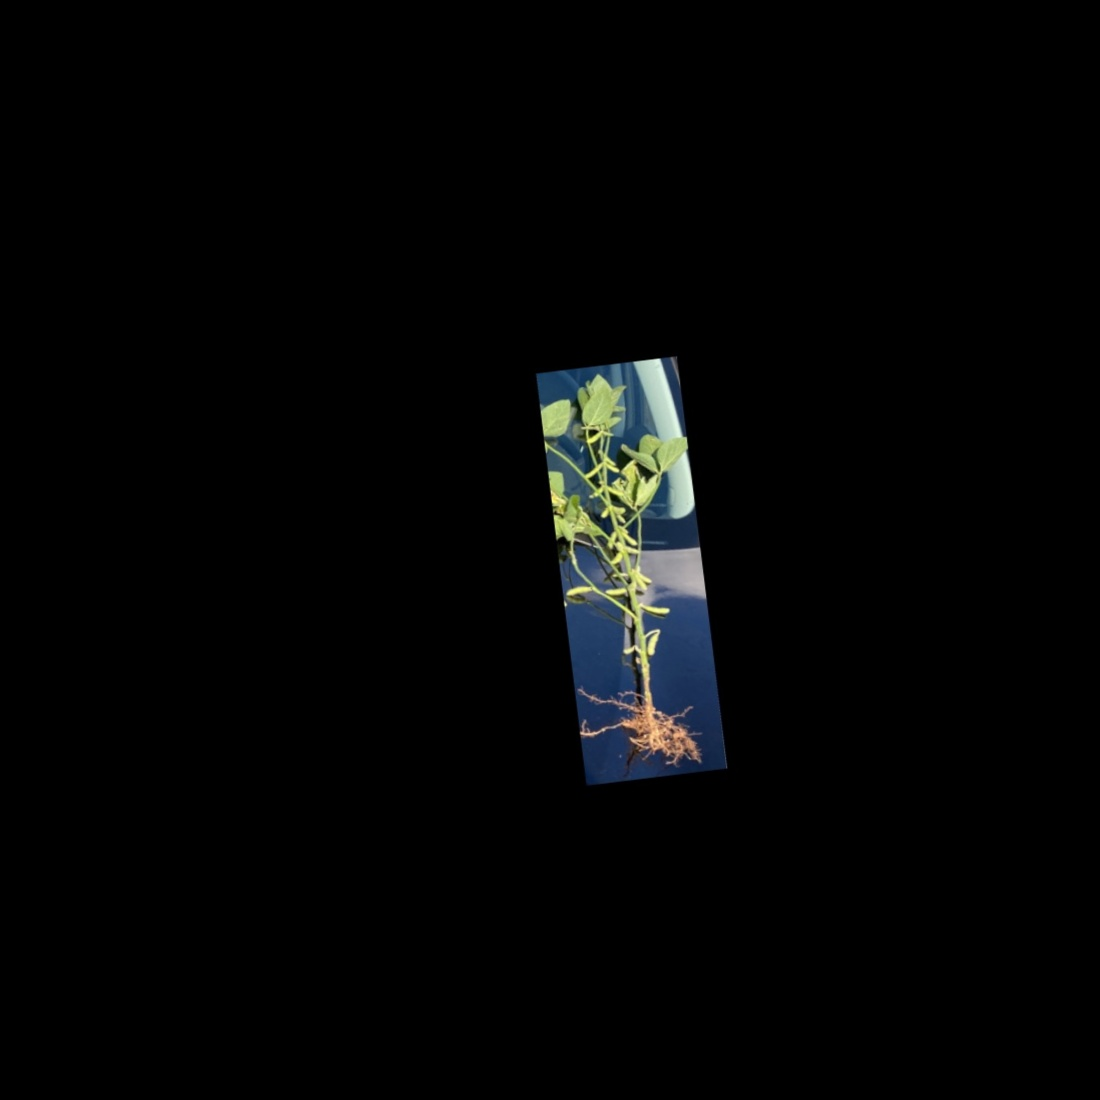pod: (640, 598, 674, 621), (614, 524, 640, 552), (643, 630, 664, 658), (564, 582, 595, 598), (579, 462, 605, 480), (601, 584, 631, 599), (582, 428, 605, 446), (602, 460, 622, 477)
soy: (539, 368, 725, 771)
